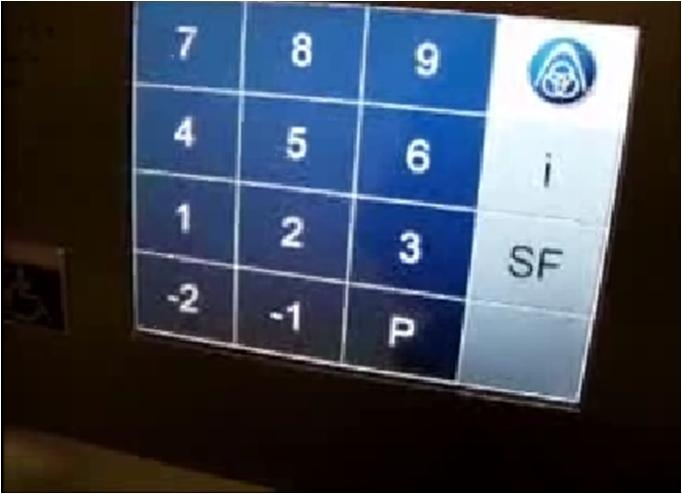-1: (232, 260, 348, 372)
-2: (133, 249, 237, 350)
1: (133, 165, 238, 270)
2: (238, 175, 351, 288)
3: (347, 196, 477, 306)
4: (128, 82, 239, 187)
5: (236, 92, 361, 196)
6: (352, 100, 491, 210)
7: (135, 1, 242, 89)
8: (244, 1, 362, 99)
9: (359, 1, 499, 117)
P: (344, 277, 472, 386)
